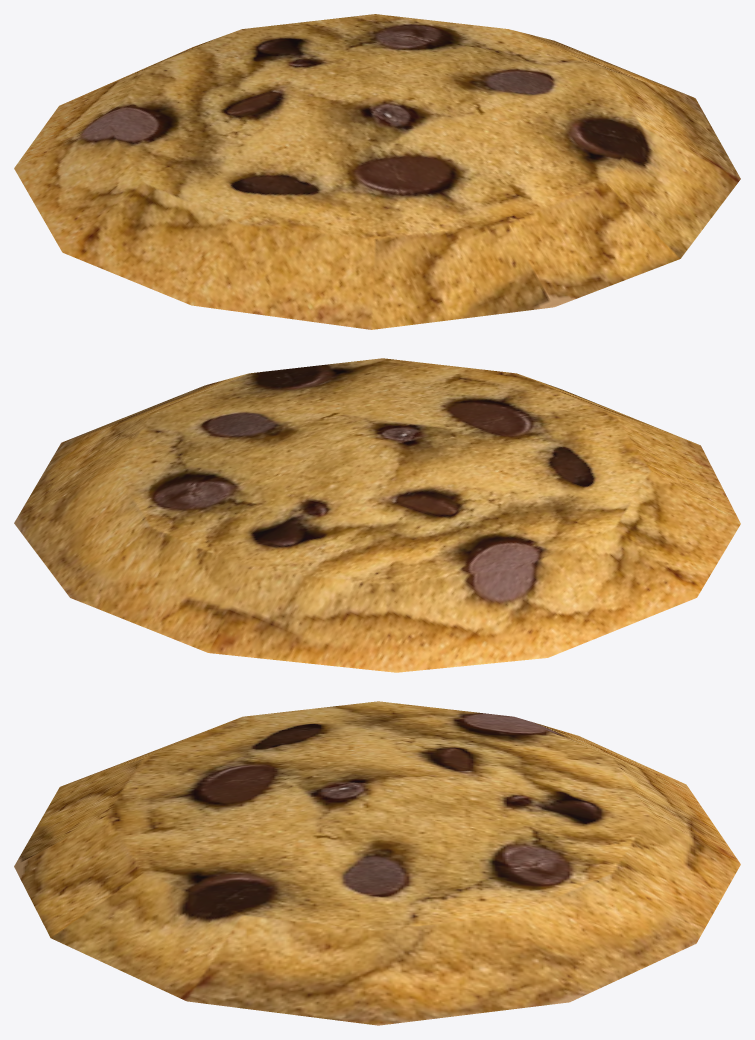
The model's file is low_poly_chocolate_chip_cookie.glb.
3 views of the same model, one above another, from view 1: azimuth 30°, elevation 25°; view 2: azimuth 150°, elevation 25°; view 3: azimuth 270°, elevation 25° (orthographic).
Visible parts, largest first — view 1: Cookie_1; view 2: Cookie_1; view 3: Cookie_1.
Part boxes in pixels (left/top/right/bottom): Cookie_1: left=14, top=14, right=740, bottom=329; Cookie_1: left=14, top=358, right=740, bottom=672; Cookie_1: left=14, top=701, right=740, bottom=1025.
Bounding box in the file's own units: 1.88 × 0.2218 × 1.83.
Materials: 1 (1 with a texture image).
